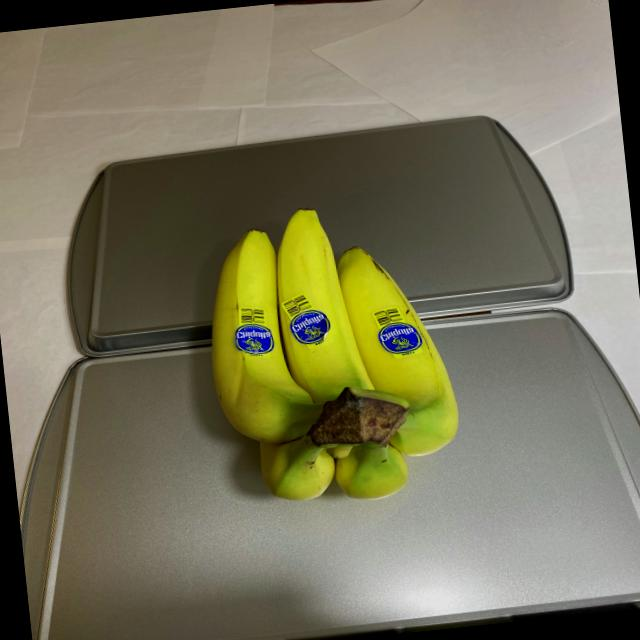banana: (198, 187, 468, 514)
